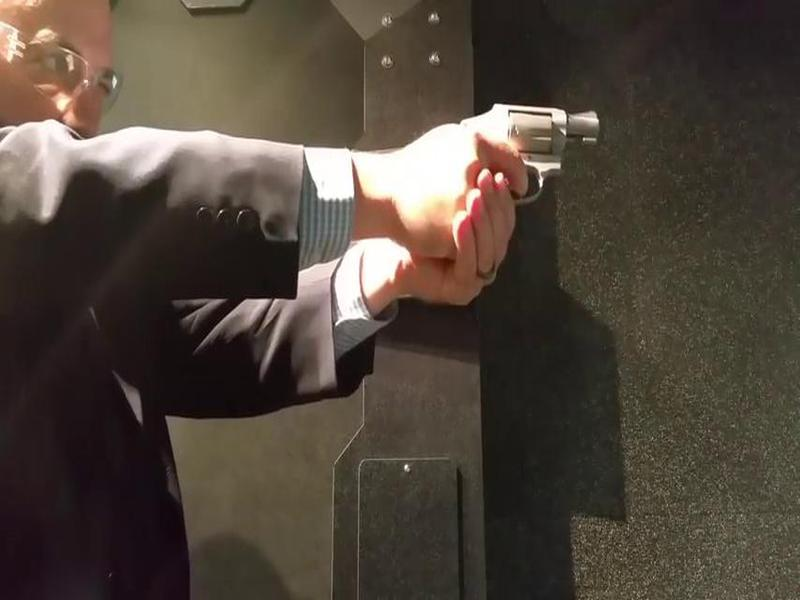Revolver: (448, 87, 602, 208)
